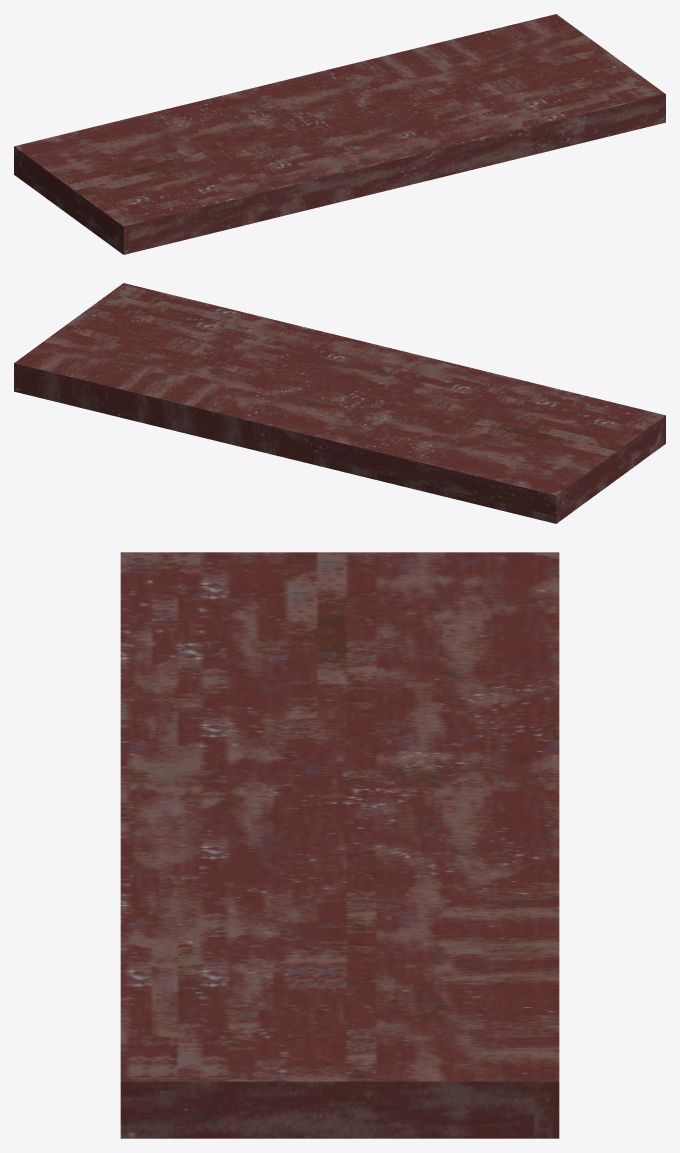
The model's file is SM_Ceiling02a.fbx.
The picture shows the model from 3 angles, top to bottom: view 1: azimuth 30°, elevation 25°; view 2: azimuth 150°, elevation 25°; view 3: azimuth 270°, elevation 25°; orthographic projection. The views are drawn at different scales.
Visible parts, largest first — view 1: SM_Ceiling02a; view 2: SM_Ceiling02a; view 3: SM_Ceiling02a.
Boxes of the visible parts, x1,y1,x2,y2 form: SM_Ceiling02a: [14, 14, 665, 254]; SM_Ceiling02a: [14, 283, 665, 523]; SM_Ceiling02a: [120, 552, 559, 1138].
Size of the model in its own units: 200 by 70 by 10.
1 material, 1 textured.
